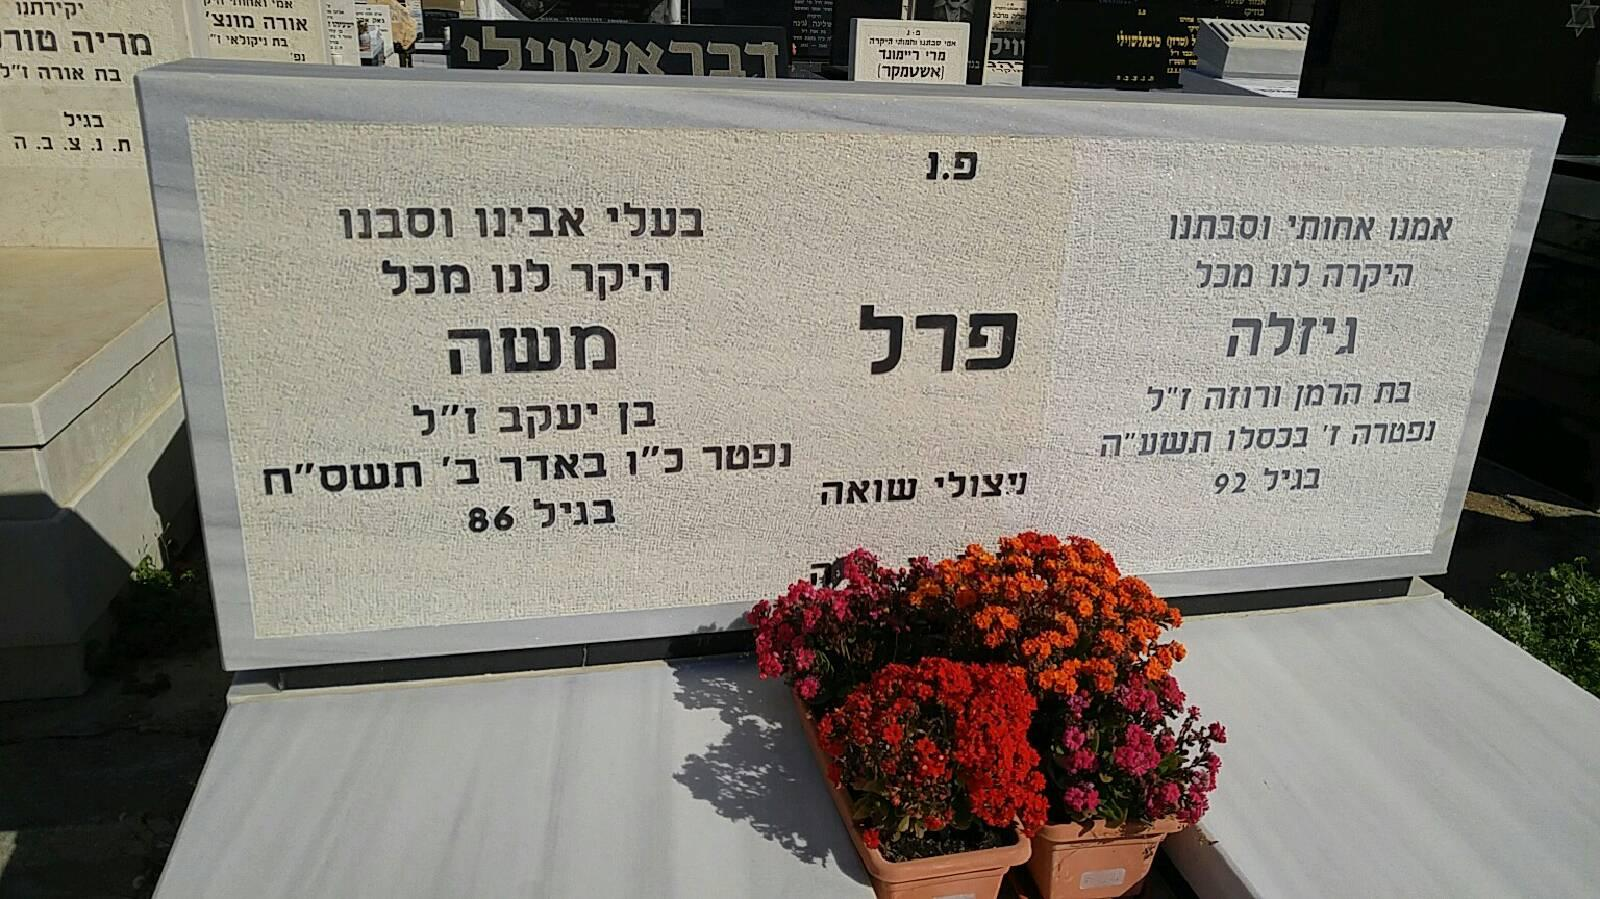upright: (99, 44, 1587, 896)
